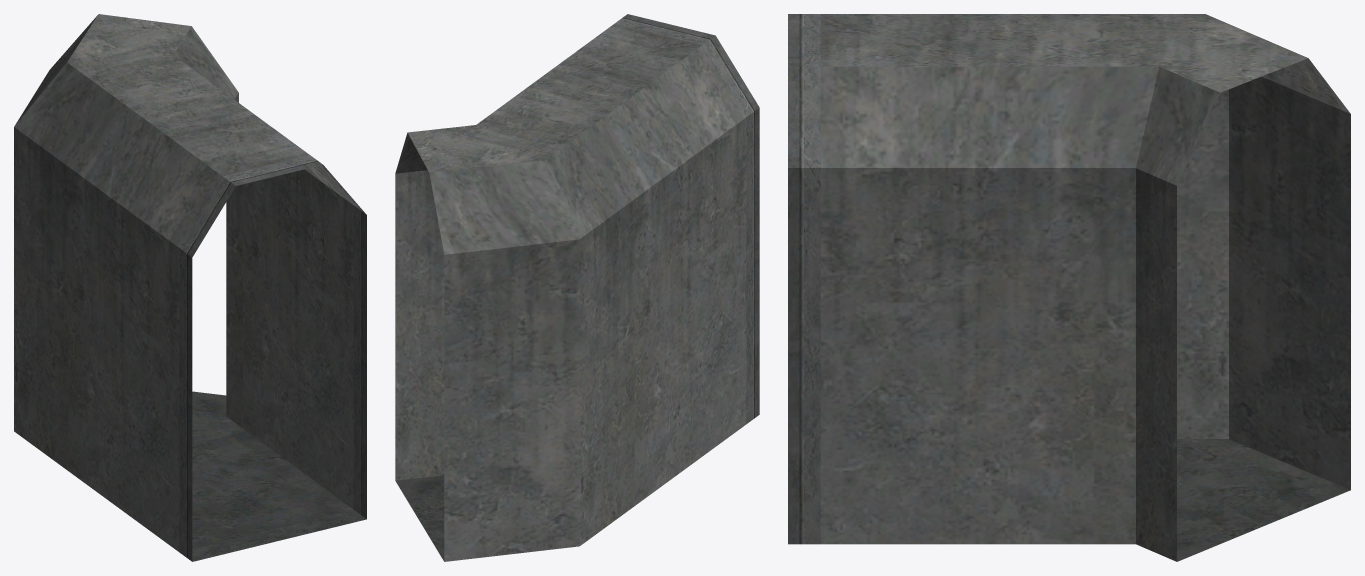
Rendered from thm_yavn_jedi_enclave_dark_r22_hallwayb0_mesh.fbx.
3 renders of one model, left to right at view 1: azimuth 30°, elevation 25°; view 2: azimuth 150°, elevation 25°; view 3: azimuth 270°, elevation 25°, orthographic. The views are drawn at different scales.
Visible parts, largest first — view 1: mesh_node; view 2: mesh_node; view 3: mesh_node.
Boxes of the visible parts, x1,y1,x2,y2 form: mesh_node: (14,14,366,561); mesh_node: (395,14,759,561); mesh_node: (788,14,1350,561).
Size of the model in its own units: 3.5 by 6 by 6.78.
